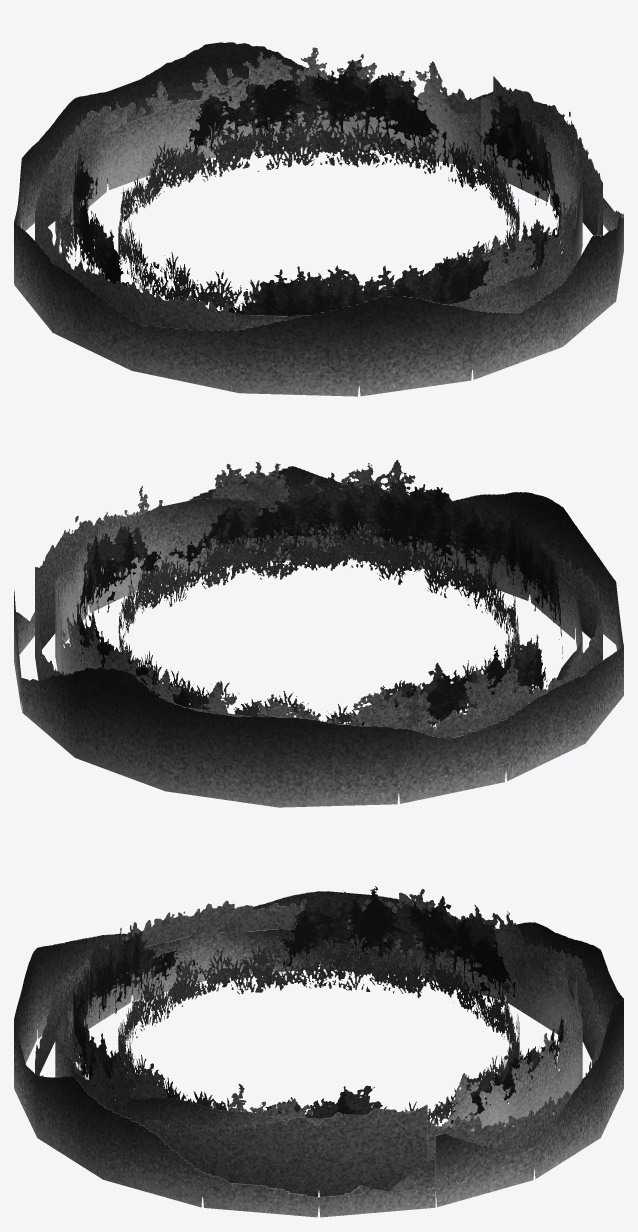
File: enkei.fbx
3 views of the same model, one above another, from view 1: azimuth 30°, elevation 25°; view 2: azimuth 150°, elevation 25°; view 3: azimuth 270°, elevation 25° (orthographic).
Visible parts, largest first — view 1: pCylinder1, pCylinder3, pCylinder4, pCylinder5, pCylinder2; view 2: pCylinder1, pCylinder4, pCylinder3, pCylinder5, pCylinder2; view 3: pCylinder1, pCylinder2, pCylinder3, pCylinder4, pCylinder5.
Boxes of the visible parts, x1=… form: pCylinder1: x1=14, y1=42, x2=623, y2=396; pCylinder3: x1=55, y1=47, x2=582, y2=323; pCylinder4: x1=73, y1=59, x2=563, y2=315; pCylinder5: x1=118, y1=111, x2=519, y2=315; pCylinder2: x1=35, y1=76, x2=602, y2=330; pCylinder1: x1=14, y1=466, x2=623, y2=807; pCylinder4: x1=76, y1=472, x2=562, y2=725; pCylinder3: x1=55, y1=460, x2=582, y2=731; pCylinder5: x1=118, y1=521, x2=519, y2=728; pCylinder2: x1=35, y1=511, x2=602, y2=737; pCylinder1: x1=14, y1=891, x2=623, y2=1217; pCylinder2: x1=35, y1=892, x2=602, y2=1196; pCylinder3: x1=55, y1=888, x2=582, y2=1131; pCylinder4: x1=73, y1=886, x2=564, y2=1124; pCylinder5: x1=118, y1=934, x2=519, y2=1126.
Bounding box in the file's own units: 1043 × 233 × 1043.
Materials: 5 (5 with a texture image).
